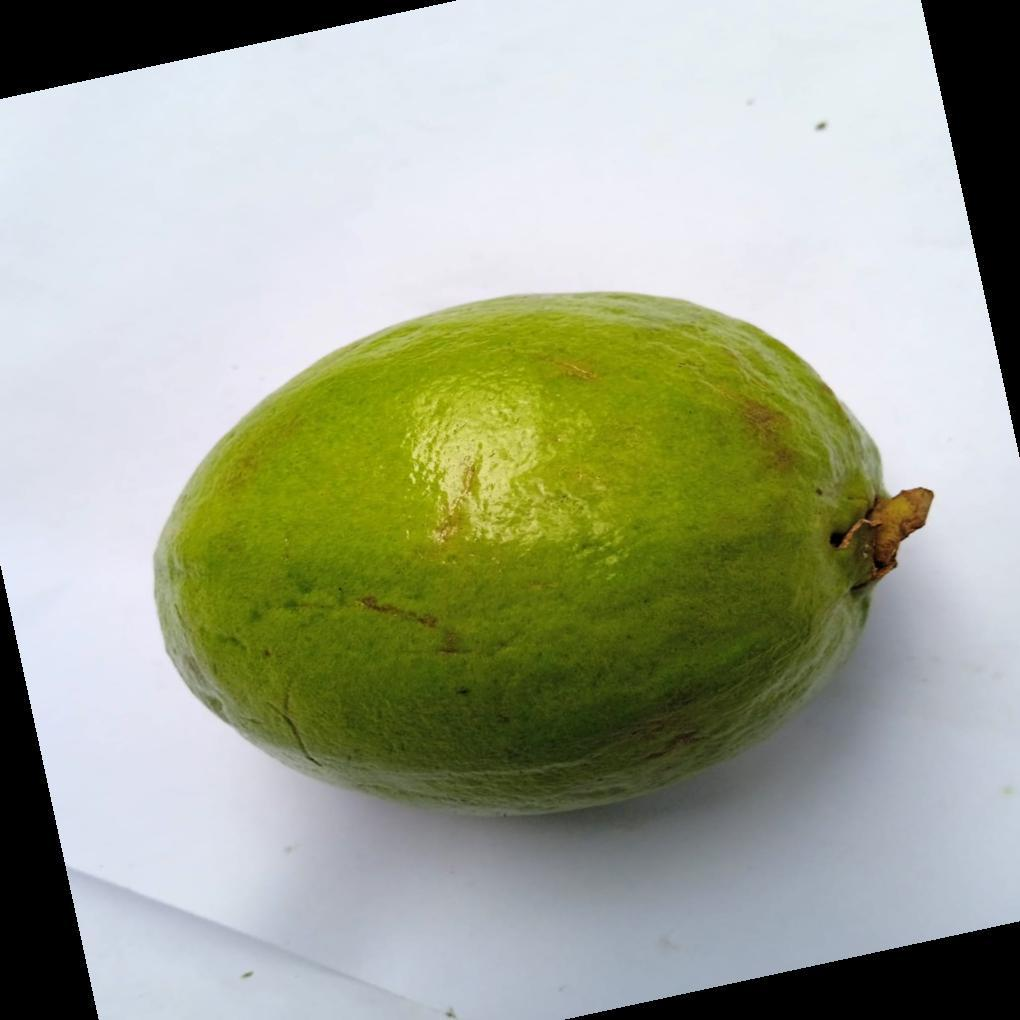FreshGuava: (151, 292, 932, 822)
